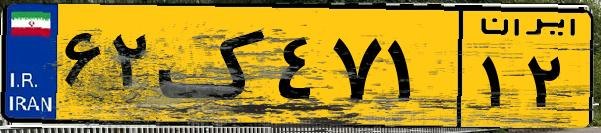1: (385, 28, 445, 110), (475, 38, 525, 113)
2: (525, 38, 570, 115), (110, 28, 158, 98)
4: (270, 28, 330, 110)
6: (57, 26, 110, 100)
7: (330, 28, 385, 110)
ک: (158, 12, 270, 120)
